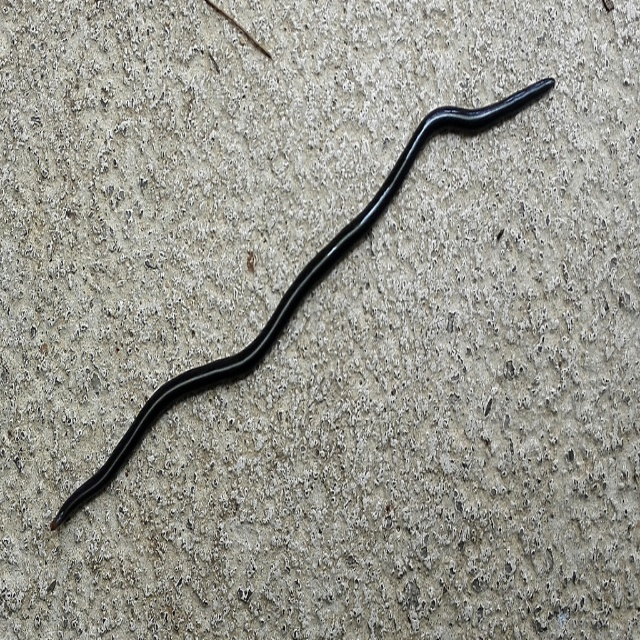Snake: (52, 75, 554, 530)
